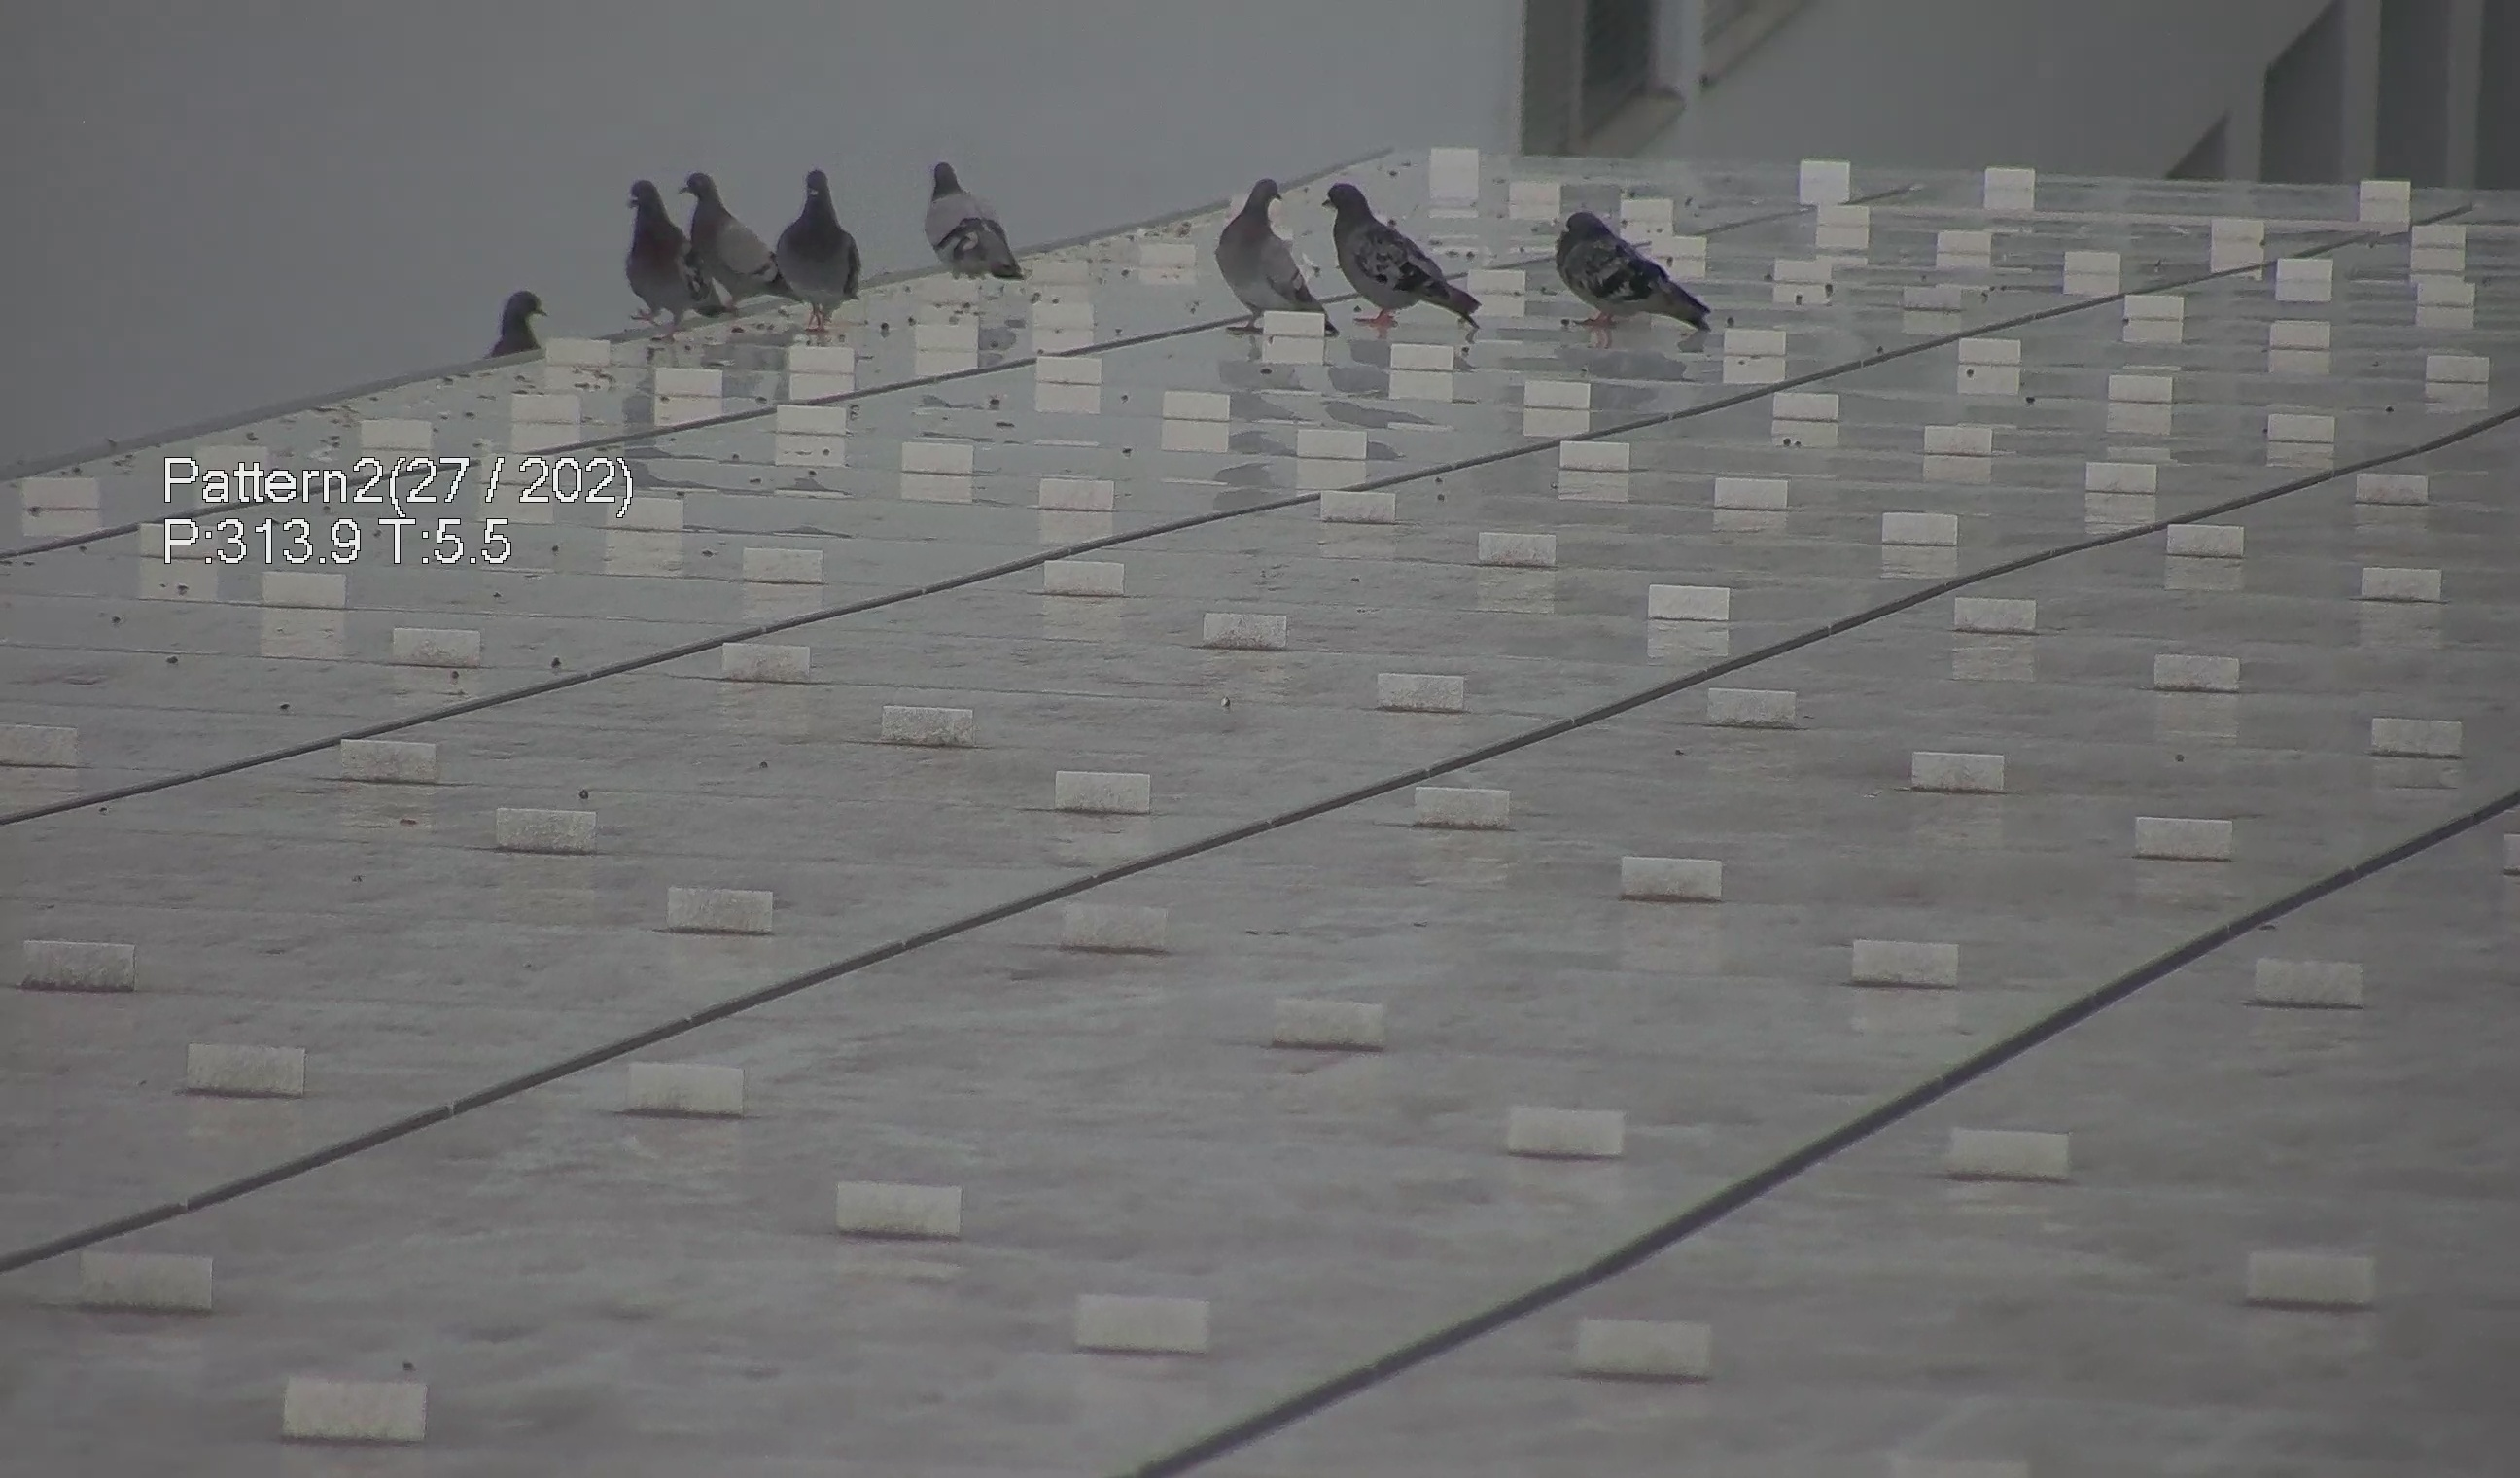Pigeon: (1310, 164, 1488, 326), (1544, 192, 1720, 345), (675, 155, 800, 329), (1208, 164, 1335, 334), (754, 153, 869, 333), (907, 150, 1025, 276), (607, 171, 693, 322), (466, 273, 547, 354)
